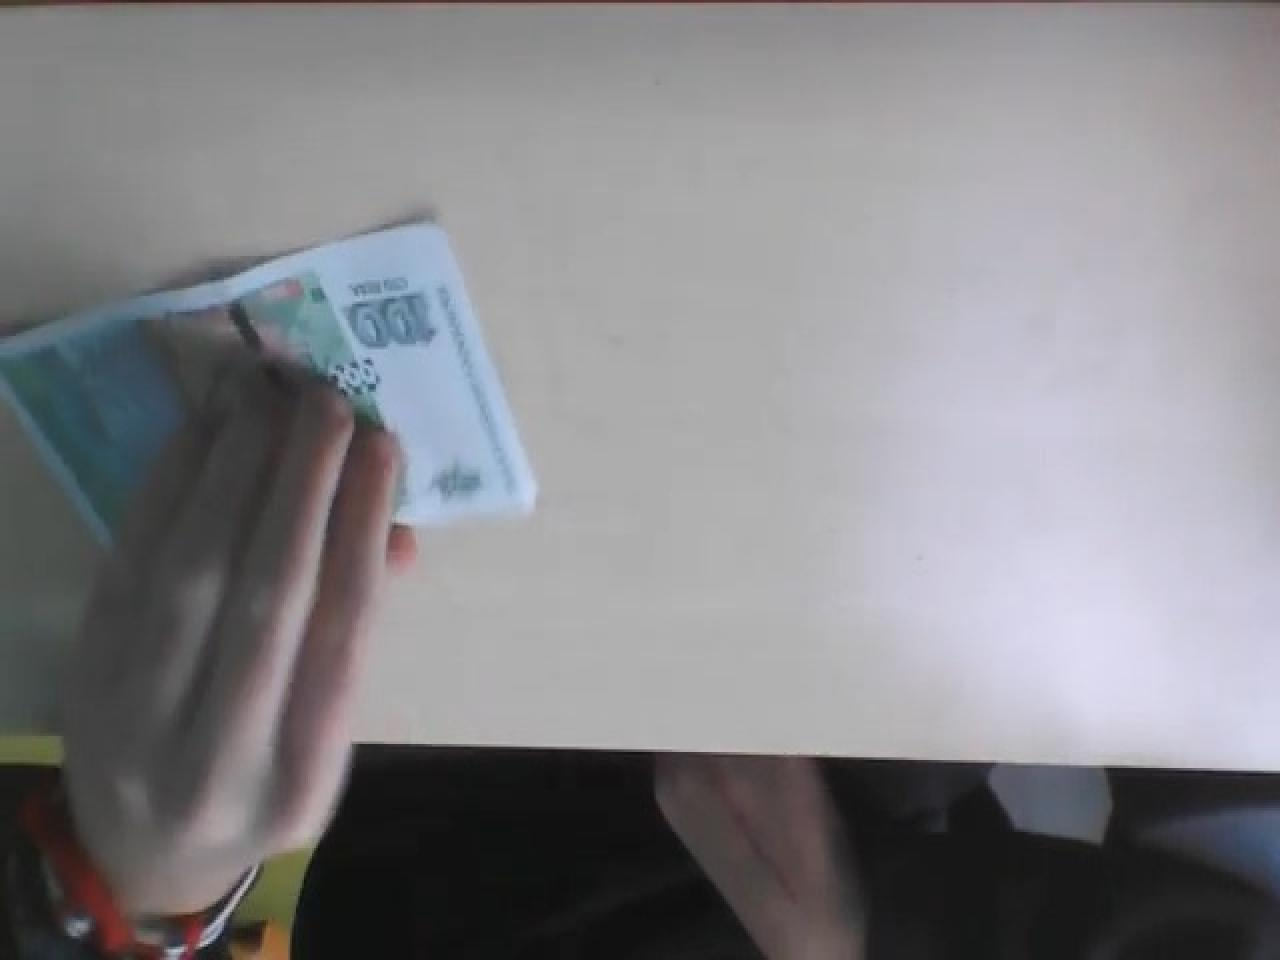100leva: (4, 219, 538, 561), (348, 293, 440, 355)
